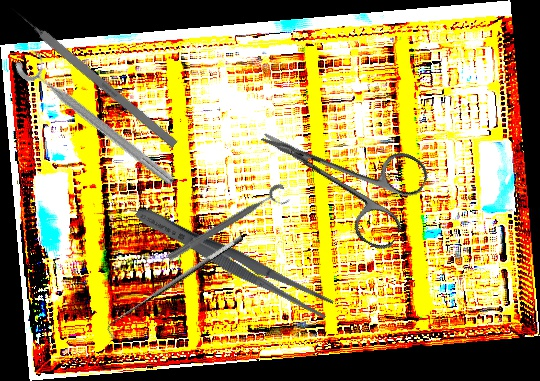Dressing Forceps: (130, 199, 336, 323)
Fixation Ring: (11, 44, 186, 191), (164, 181, 293, 272)
Hook Surgical: (7, 3, 179, 149), (101, 233, 251, 340)
Iris Scissors: (241, 90, 434, 254)
